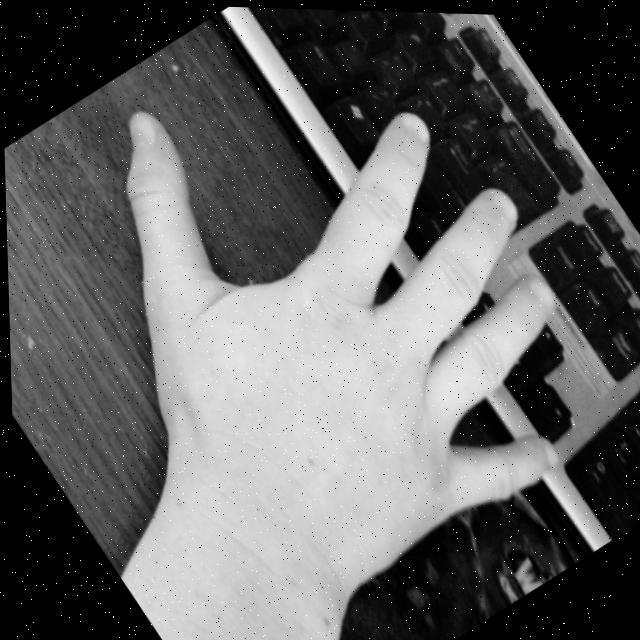no-gloves: (29, 1, 640, 626)
